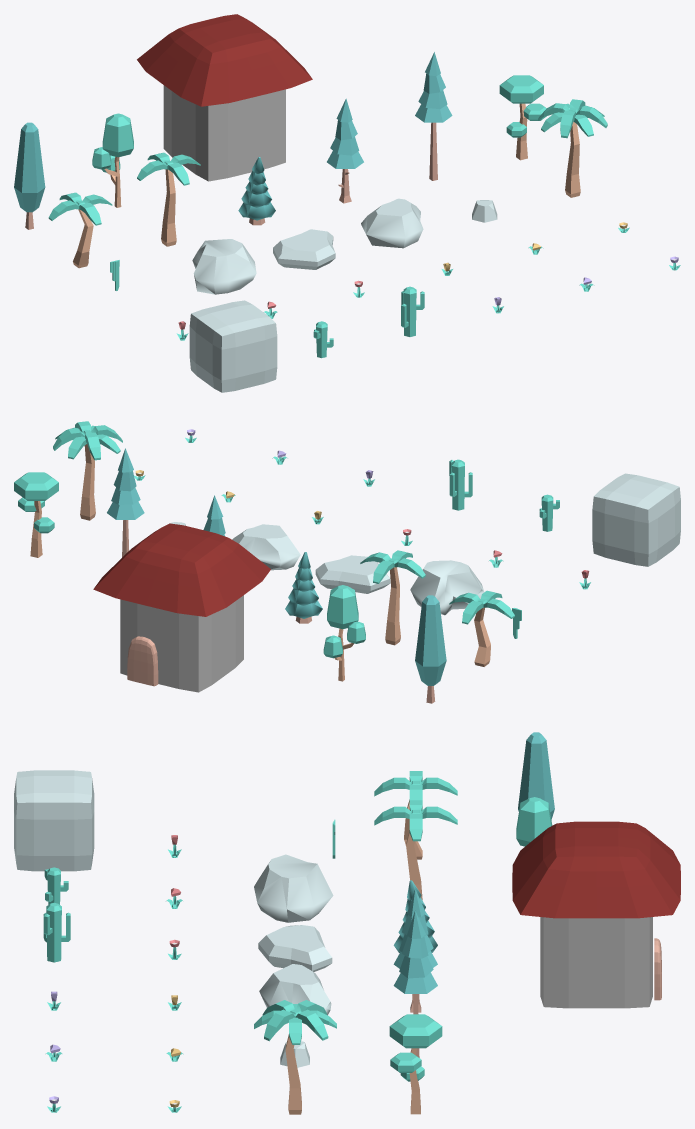
Rendered from tiles.glb.
3 views of the same model, one above another, from view 1: azimuth 30°, elevation 25°; view 2: azimuth 150°, elevation 25°; view 3: azimuth 270°, elevation 25° (orthographic). The views are drawn at different scales.
Parts seen in each view (by area): view 1: House, Cube, stone_largeD, tree_palmDetailedTall, stone_largeF, tree_tall_dark, stone_largeE, tree_plateau, tree_thin, tree_pineTallD, tree_palmTall, tree_pineTallC_detailed (+3 smaller); view 2: House, Cube, stone_largeD, tree_palmDetailedTall, tree_tall_dark, tree_thin, tree_plateau, stone_largeF, stone_largeE, tree_palmTall, tree_pineTallD, tree_palmShort (+4 smaller); view 3: House, Cube, stone_largeD, tree_palmDetailedTall, tree_plateau, stone_largeE, tree_pineTallD, stone_largeF, tree_tall_dark, tree_palmTall, tree_palmShort, tree_thin (+4 smaller).
Boxes of the visible parts, x1,y1,x2,y2 form: House: [137, 14, 312, 181]; Cube: [189, 300, 277, 392]; stone_largeD: [192, 239, 256, 294]; tree_palmDetailedTall: [538, 99, 607, 197]; stone_largeF: [361, 198, 423, 248]; tree_tall_dark: [14, 122, 45, 229]; stone_largeE: [273, 229, 335, 269]; tree_plateau: [499, 75, 546, 160]; tree_thin: [92, 113, 133, 207]; tree_pineTallD: [415, 52, 452, 180]; tree_palmTall: [137, 152, 200, 246]; tree_pineTallC_detailed: [327, 98, 363, 203]; House: [93, 523, 270, 692]; Cube: [592, 473, 680, 566]; stone_largeD: [410, 560, 484, 615]; tree_palmDetailedTall: [53, 421, 122, 520]; tree_tall_dark: [415, 595, 446, 703]; tree_thin: [323, 585, 365, 681]; tree_plateau: [14, 472, 58, 557]; stone_largeF: [232, 524, 300, 570]; stone_largeE: [315, 555, 390, 593]; tree_palmTall: [360, 550, 425, 645]; tree_pineTallD: [107, 448, 144, 557]; tree_palmShort: [449, 590, 514, 666]; House: [512, 821, 680, 1008]; Cube: [14, 770, 94, 871]; stone_largeD: [254, 854, 333, 922]; tree_palmDetailedTall: [254, 1000, 336, 1114]; tree_plateau: [389, 1014, 442, 1114]; stone_largeE: [258, 925, 332, 971]; tree_pineTallD: [393, 910, 437, 1057]; stone_largeF: [259, 964, 331, 1015]; tree_tall_dark: [518, 732, 554, 819]; tree_palmTall: [374, 800, 457, 899]; tree_palmShort: [374, 771, 457, 859]; tree_thin: [516, 797, 552, 846].
Size of the model in its own units: 8.53 by 2.08 by 8.3.
